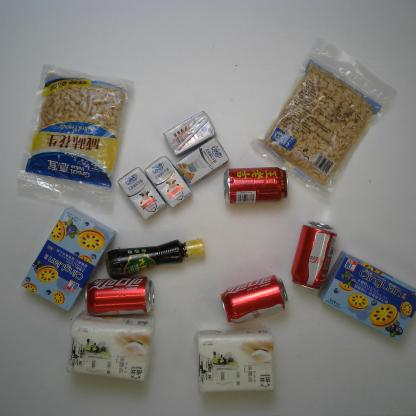Dessert: (20, 206, 117, 312), (317, 250, 416, 342)
Dried Fruit: (248, 34, 399, 207), (12, 62, 138, 213)
Drink: (290, 219, 338, 292), (220, 274, 289, 324), (84, 275, 156, 318), (223, 166, 289, 205)
Milk: (174, 137, 230, 187), (144, 154, 193, 210), (162, 110, 218, 158), (118, 166, 166, 221)
Seasoner: (105, 237, 205, 279)
Tissue: (66, 312, 156, 383), (192, 329, 275, 395)
